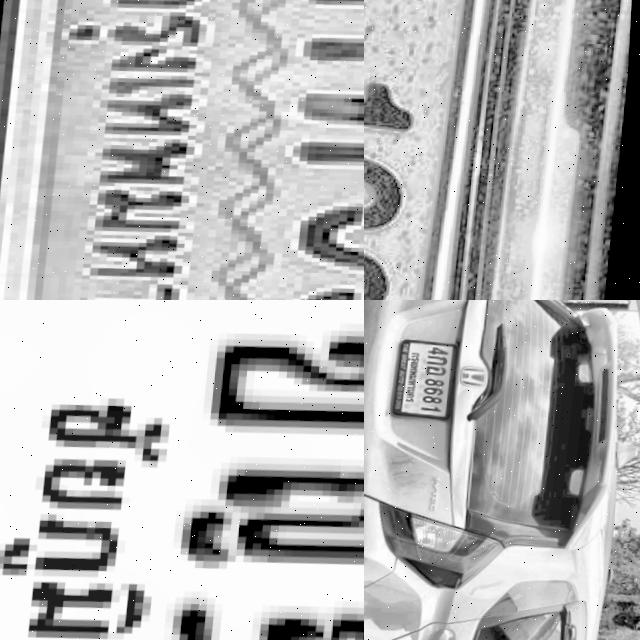license-plate: (0, 300, 364, 640), (0, 0, 364, 300), (364, 0, 516, 300), (392, 339, 466, 426)
